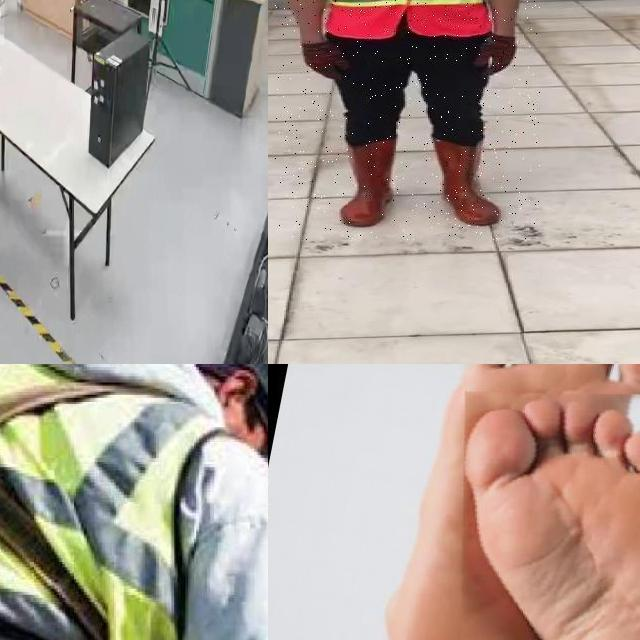Barefoots: (405, 364, 640, 640)
Harness: (0, 364, 159, 640)
boots: (430, 136, 501, 225), (339, 140, 400, 226)
hand_glove: (0, 0, 5, 45)
person: (275, 0, 540, 240)
vest: (316, 0, 490, 40)
